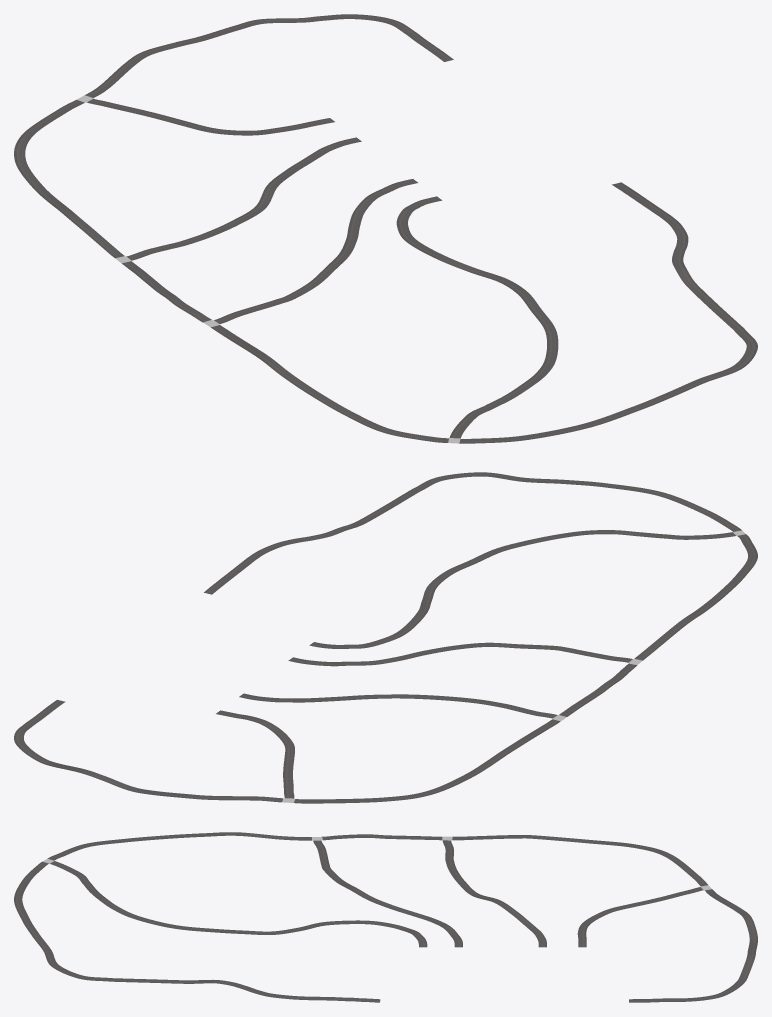
The model's file is MAP easy.fbx.
3 renders of one model, top to bottom at view 1: azimuth 30°, elevation 25°; view 2: azimuth 150°, elevation 25°; view 3: azimuth 270°, elevation 25°, orthographic. The views are drawn at different scales.
Visible parts, largest first — view 1: Default_Road_002_2_2_2_2, Default_Road_008, Default_Road_002, Default_Road_006, Default_Road_002_2, Default_Road_004, Default_Road_002_2_2_2, Default_Road_002_1, Default_Road_002_2_2; view 2: Default_Road_002_2_2_2_2, Default_Road_008, Default_Road_002, Default_Road_006, Default_Road_002_2, Default_Road_004, Default_Road_002_2_2_2, Default_Road_002_1, Default_Road_002_2_2; view 3: Default_Road_002_2_2_2_2, Default_Road_008, Default_Road_002, Default_Road_002_2, Default_Road_006, Default_Road_002_2_2_2, Default_Road_004, Default_Road_002_1, Default_Road_002_2_2.
Part boxes in pixels (<box>): Default_Road_002_2_2_2_2: <box>459,182,757,443</box>; Default_Road_008: <box>396,196,558,438</box>; Default_Road_002: <box>85,14,453,97</box>; Default_Road_006: <box>214,179,417,323</box>; Default_Road_002_2: <box>14,100,124,258</box>; Default_Road_004: <box>126,137,361,260</box>; Default_Road_002_2_2_2: <box>211,325,448,442</box>; Default_Road_002_1: <box>87,98,334,135</box>; Default_Road_002_2_2: <box>122,261,211,322</box>; Default_Road_002_2_2_2_2: <box>204,472,741,594</box>; Default_Road_008: <box>309,530,735,648</box>; Default_Road_002: <box>14,700,283,802</box>; Default_Road_006: <box>288,642,632,666</box>; Default_Road_002_2: <box>294,719,560,803</box>; Default_Road_004: <box>239,693,557,718</box>; Default_Road_002_2_2_2: <box>634,534,757,660</box>; Default_Road_002_1: <box>216,710,294,798</box>; Default_Road_002_2_2: <box>559,663,636,716</box>; Default_Road_002_2_2_2_2: <box>14,861,380,1002</box>; Default_Road_008: <box>50,861,427,947</box>; Default_Road_002: <box>629,889,757,1002</box>; Default_Road_002_2: <box>452,835,707,886</box>; Default_Road_006: <box>313,840,462,947</box>; Default_Road_002_2_2_2: <box>47,832,311,860</box>; Default_Road_004: <box>442,840,546,947</box>; Default_Road_002_1: <box>577,887,703,947</box>; Default_Road_002_2_2: <box>322,834,442,840</box>.
Size of the model in its own units: 183740 by 2210 by 344784.
